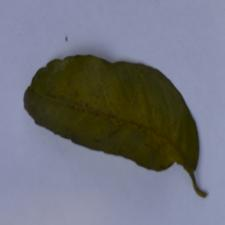Greening: (26, 45, 195, 159)
